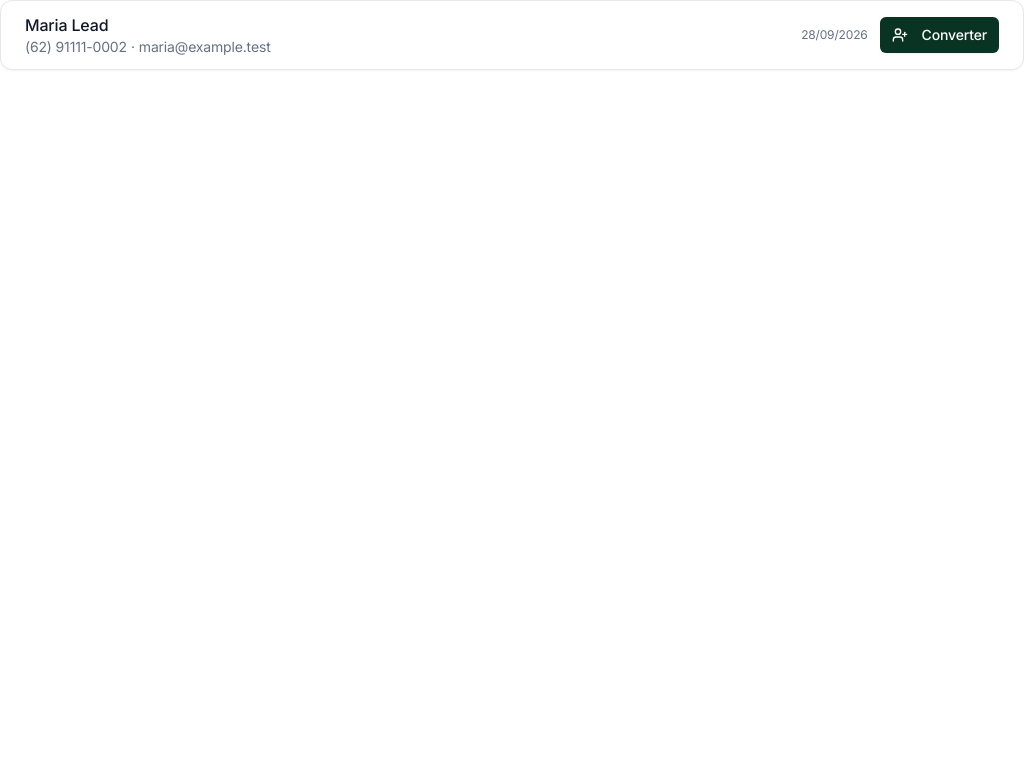
it: conversão concluída fecha o diálogo
This screenshot has width=1024, height=768.
Click the button "Converter" at (939, 35), box [880,17,999,53]
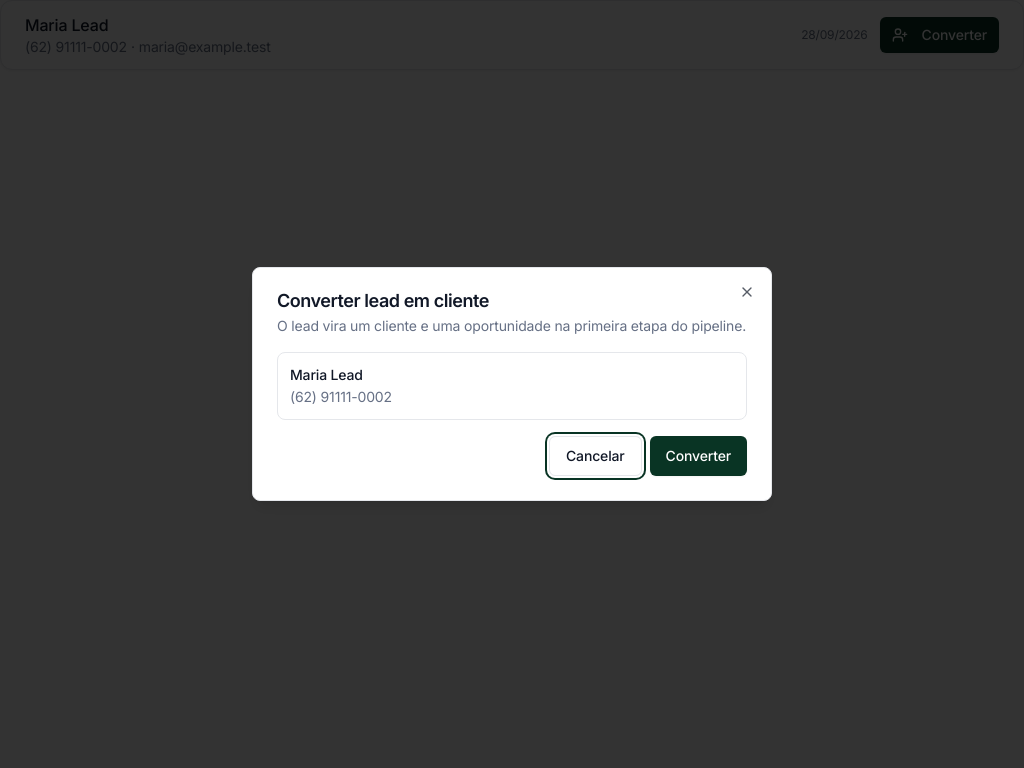
Click the button "Converter" at (698, 456), box [650,436,747,476]
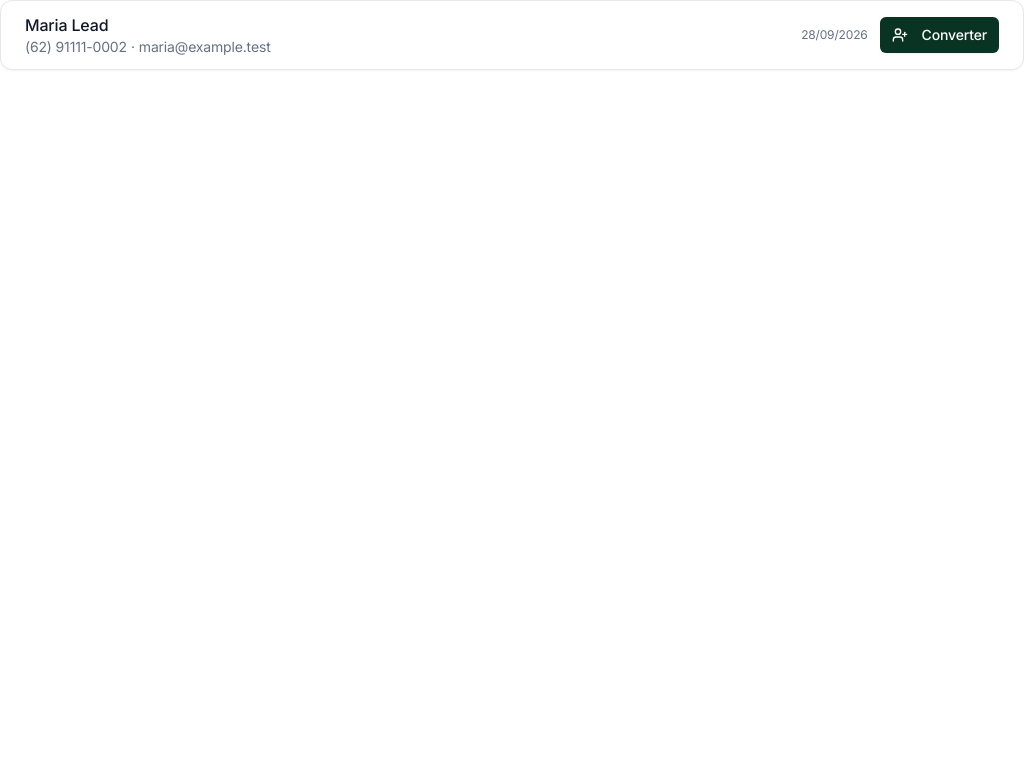
Check: the dialog is gone
